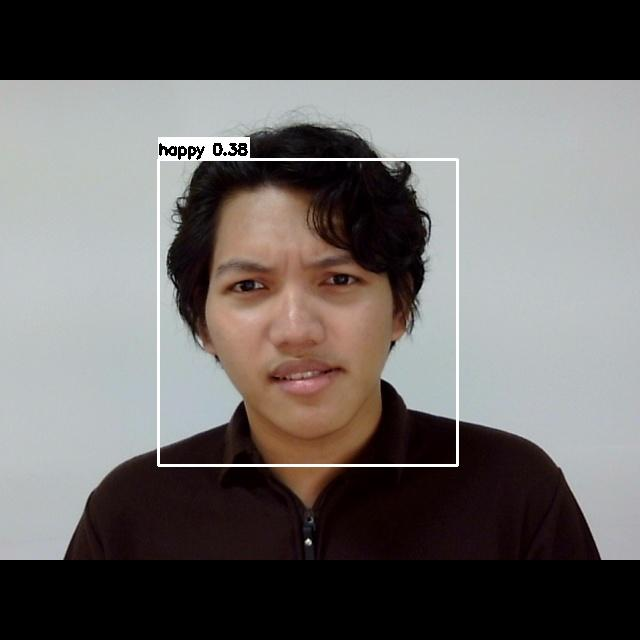Angry: (200, 230, 396, 414)
